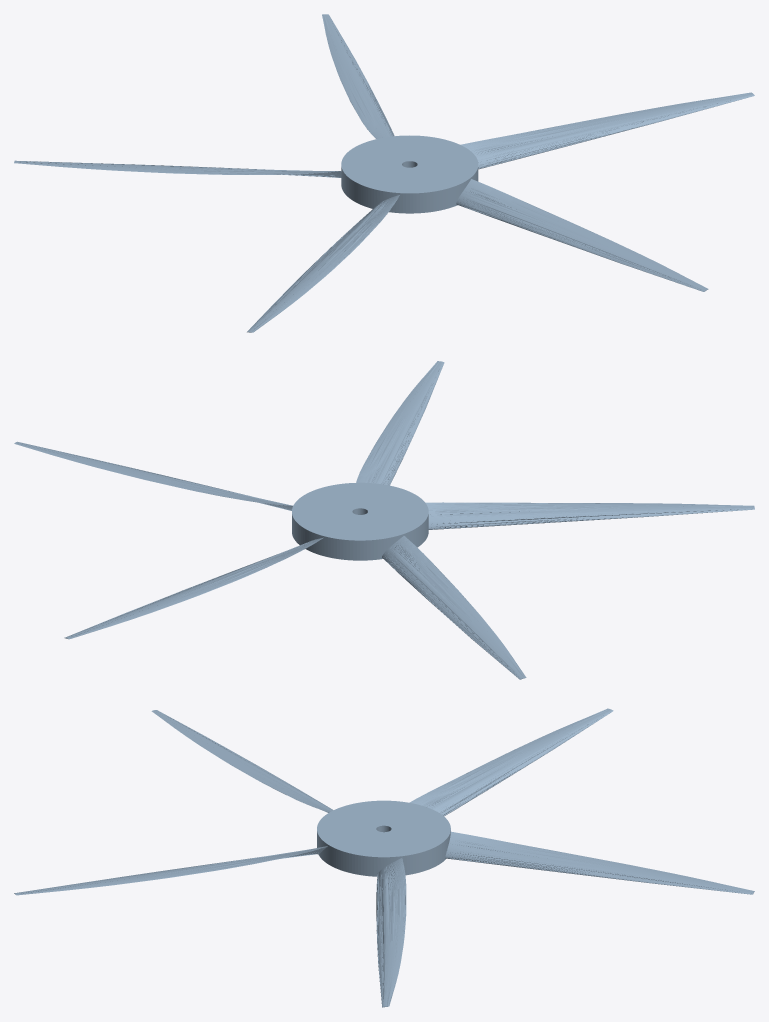
The picture shows the model from 3 angles, top to bottom: view 1: azimuth 30°, elevation 25°; view 2: azimuth 150°, elevation 25°; view 3: azimuth 270°, elevation 25°; orthographic projection. The views are drawn at different scales.
Visible parts, largest first — view 1: 12in-5b.stl; view 2: 12in-5b.stl; view 3: 12in-5b.stl.
Part boxes in pixels (x1,y1,x2,y2): 12in-5b.stl: (14,14,754,332); 12in-5b.stl: (14,361,754,679); 12in-5b.stl: (14,708,754,1007).
Size of the model in its own units: 0.2769 by 0.00851 by 0.2908.
